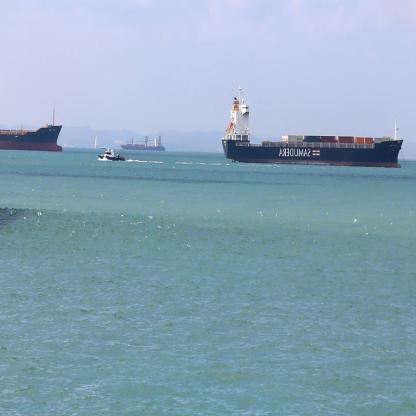Container Ship: (222, 84, 404, 169), (0, 103, 62, 153), (120, 134, 166, 152)
